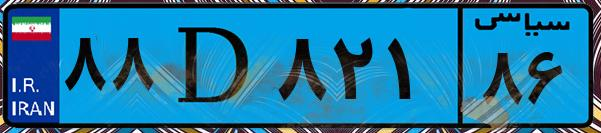1: (385, 28, 445, 110)
2: (330, 28, 385, 110)
6: (525, 38, 570, 115)
8: (270, 28, 330, 110), (57, 26, 110, 100), (475, 38, 525, 113), (110, 28, 158, 98)
D: (158, 12, 270, 120)
